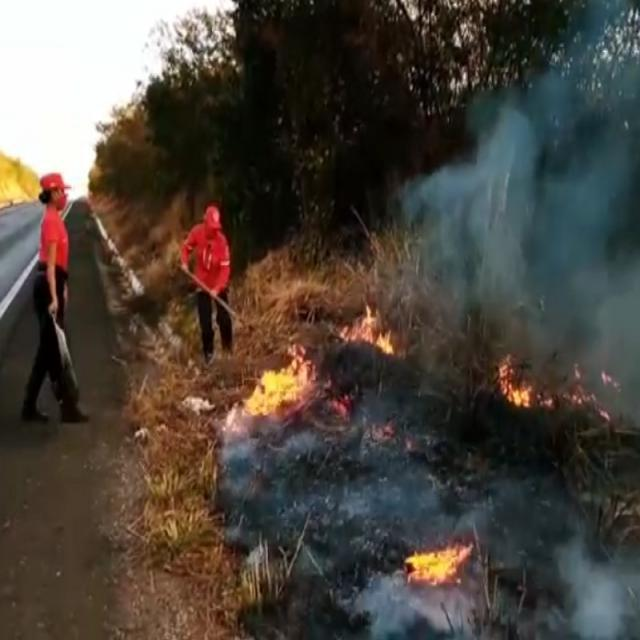Fire: (247, 348, 310, 416), (407, 541, 476, 583), (355, 310, 393, 358), (495, 364, 533, 407)
